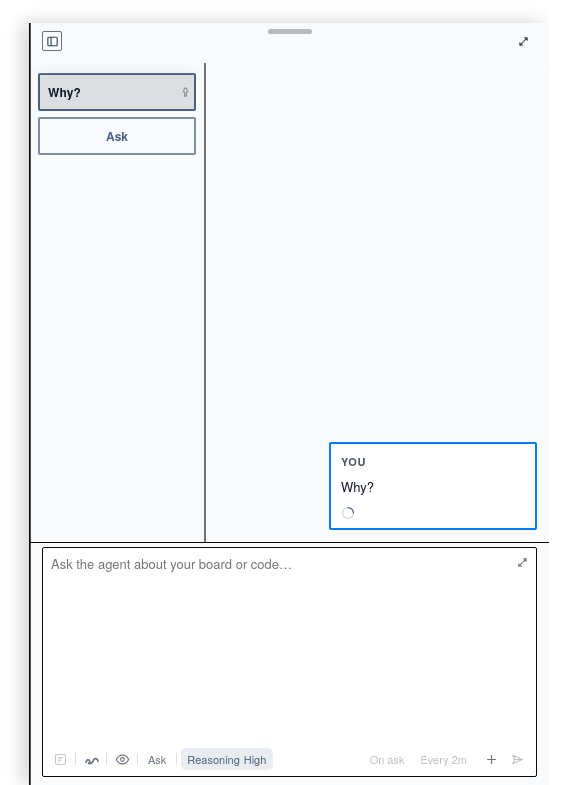
Scenario: Edit on a running message aborts it and restores the text to the composer
The image size is (561, 785).
Expected: the icon with class "lc-agent-turn-run" is shown, x1=341 y1=506 x2=355 y2=520
Right-click the element with class "lc-agent-turn-user" at (433, 486), box x1=329 y1=442 x2=537 y2=530
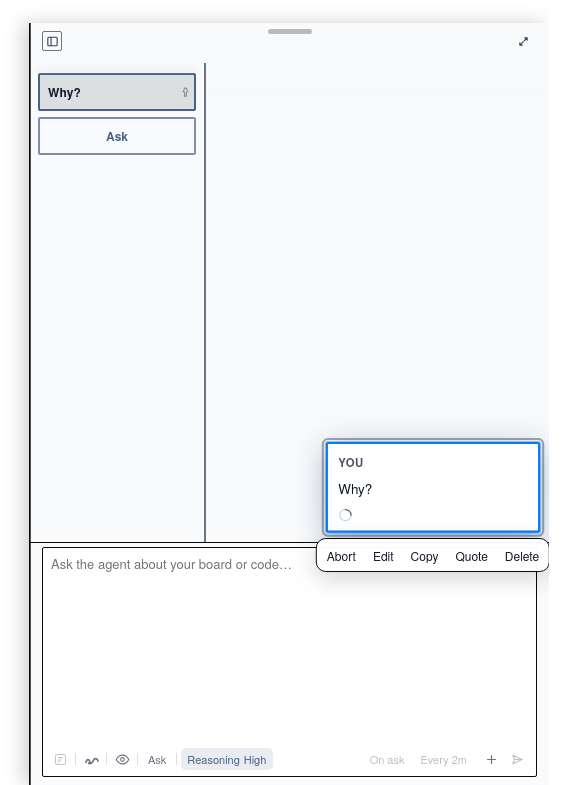
Now the menu item "Abort" is shown, box x1=319 y1=541 x2=364 y2=569
Click the menu item "Edit" at (383, 555), box x1=365 y1=541 x2=402 y2=569
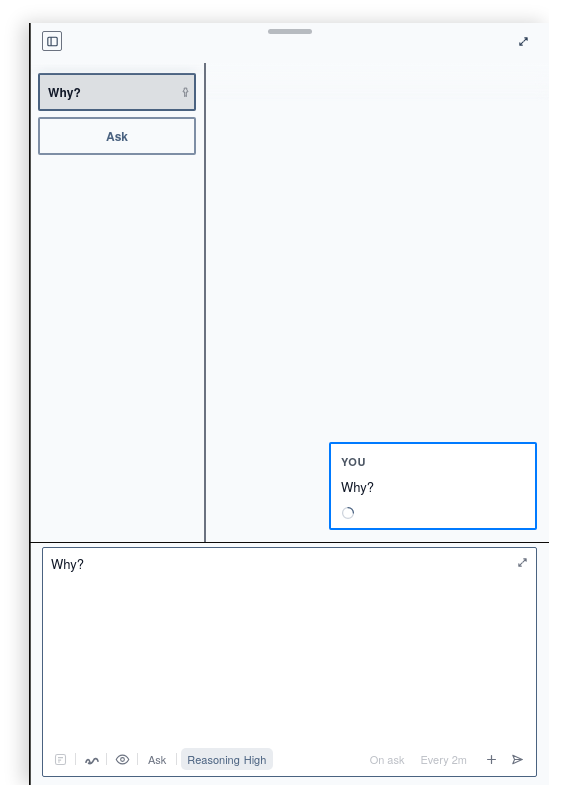
Now the text box holds "Why?", box x1=43 y1=548 x2=536 y2=748
